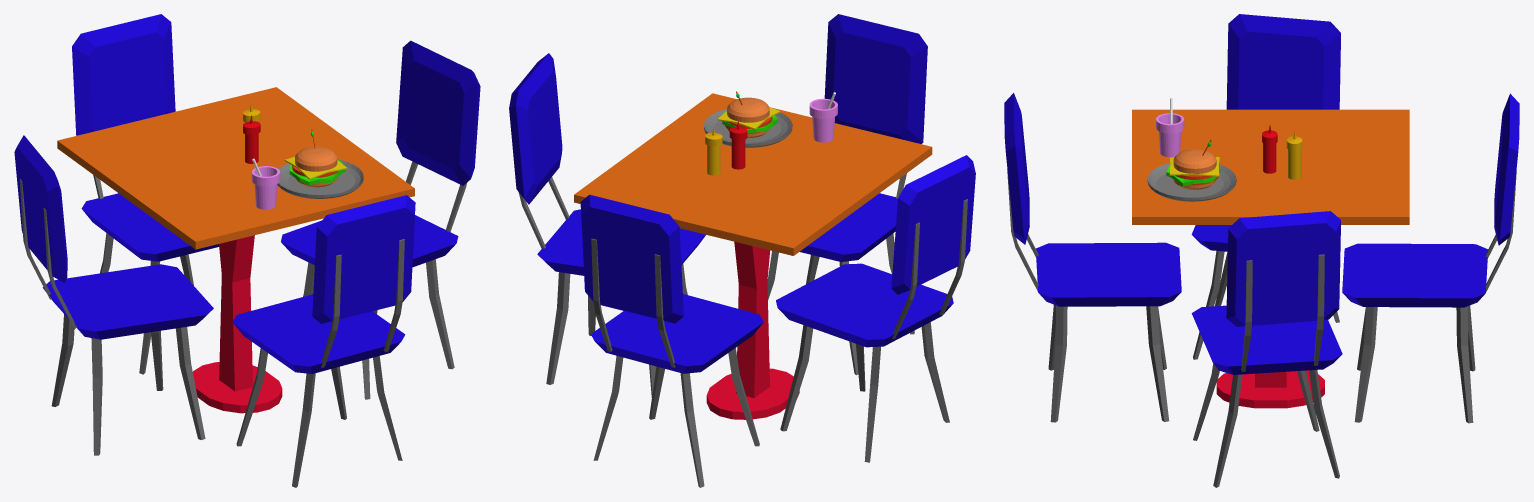
3 views of the same model, side by side, from view 1: azimuth 30°, elevation 25°; view 2: azimuth 150°, elevation 25°; view 3: azimuth 270°, elevation 25° (orthographic).
Visible parts, largest first — view 1: Cubo.001, Cubo.009, Cubo.014, Cubo.022, Cubo.028, Cubo.019, mesa, Cubo.033, Cubo.004, Cubo.027, prato, Cubo.031 (+14 smaller); view 2: Cubo.001, Cubo.014, Cubo.009, Cubo.028, Cubo.033, Cubo.004, mesa, Cubo.022, Cubo.019, Cubo.027, prato, Cubo.026 (+14 smaller); view 3: Cubo.001, Cubo.022, Cubo.033, Cubo.004, Cubo.019, Cubo.027, mesa, Cubo.009, Cubo.014, prato, Cubo.015, Cubo.008 (+12 smaller).
Boxes of the visible parts, bbox=[...] form: Cubo.001: bbox=[57, 87, 414, 249]; Cubo.009: bbox=[72, 14, 175, 135]; Cubo.014: bbox=[312, 195, 415, 323]; Cubo.022: bbox=[396, 40, 480, 185]; Cubo.028: bbox=[42, 264, 213, 339]; Cubo.019: bbox=[232, 294, 405, 373]; mesa: bbox=[193, 235, 282, 413]; Cubo.033: bbox=[14, 135, 67, 282]; Cubo.004: bbox=[81, 193, 219, 261]; Cubo.027: bbox=[281, 215, 458, 267]; prato: bbox=[277, 159, 363, 198]; Cubo.031: bbox=[175, 327, 205, 439]; Cubo.001: bbox=[574, 93, 932, 255]; Cubo.014: bbox=[824, 14, 927, 143]; Cubo.009: bbox=[580, 194, 683, 323]; Cubo.028: bbox=[776, 263, 953, 347]; Cubo.033: bbox=[891, 155, 975, 294]; Cubo.004: bbox=[591, 294, 763, 373]; mesa: bbox=[706, 241, 799, 419]; Cubo.022: bbox=[509, 53, 562, 204]; Cubo.019: bbox=[799, 193, 897, 261]; Cubo.027: bbox=[537, 209, 705, 275]; prato: bbox=[704, 109, 792, 147]; Cubo.026: bbox=[546, 272, 570, 384]; Cubo.001: bbox=[1132, 109, 1409, 224]; Cubo.022: bbox=[1226, 211, 1340, 326]; Cubo.033: bbox=[1226, 14, 1340, 109]; Cubo.004: bbox=[1342, 243, 1487, 307]; Cubo.019: bbox=[1036, 242, 1181, 306]; Cubo.027: bbox=[1191, 305, 1342, 374]; mesa: bbox=[1216, 370, 1324, 408]; Cubo.009: bbox=[1494, 93, 1519, 245]; Cubo.014: bbox=[1004, 93, 1029, 244]; prato: bbox=[1147, 163, 1236, 201]; Cubo.015: bbox=[1050, 305, 1067, 422]; Cubo.008: bbox=[1456, 306, 1473, 423].
Size of the model in its own units: 367 by 229 by 377.
